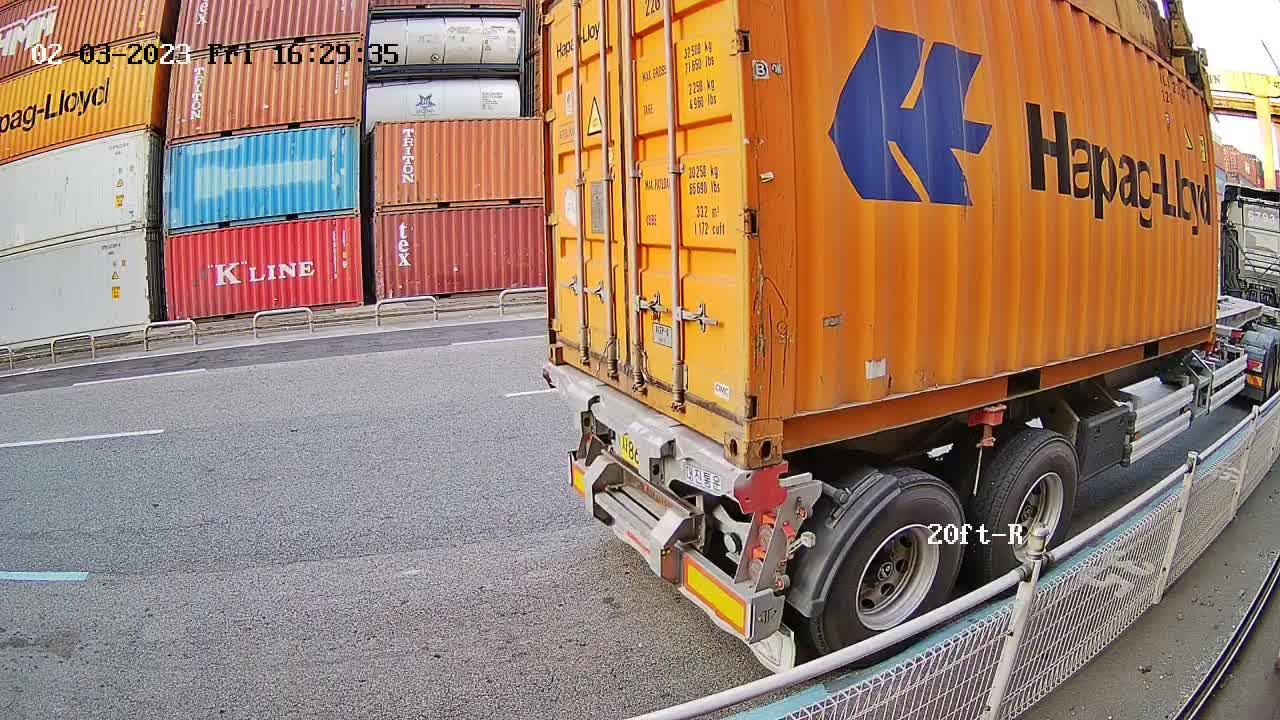Chassis: (544, 362, 781, 497)
Hole_L: (745, 394, 810, 469), (549, 318, 579, 371)
Hole_R: (703, 388, 748, 470)
Tire: (817, 480, 965, 667), (992, 434, 1079, 591)
